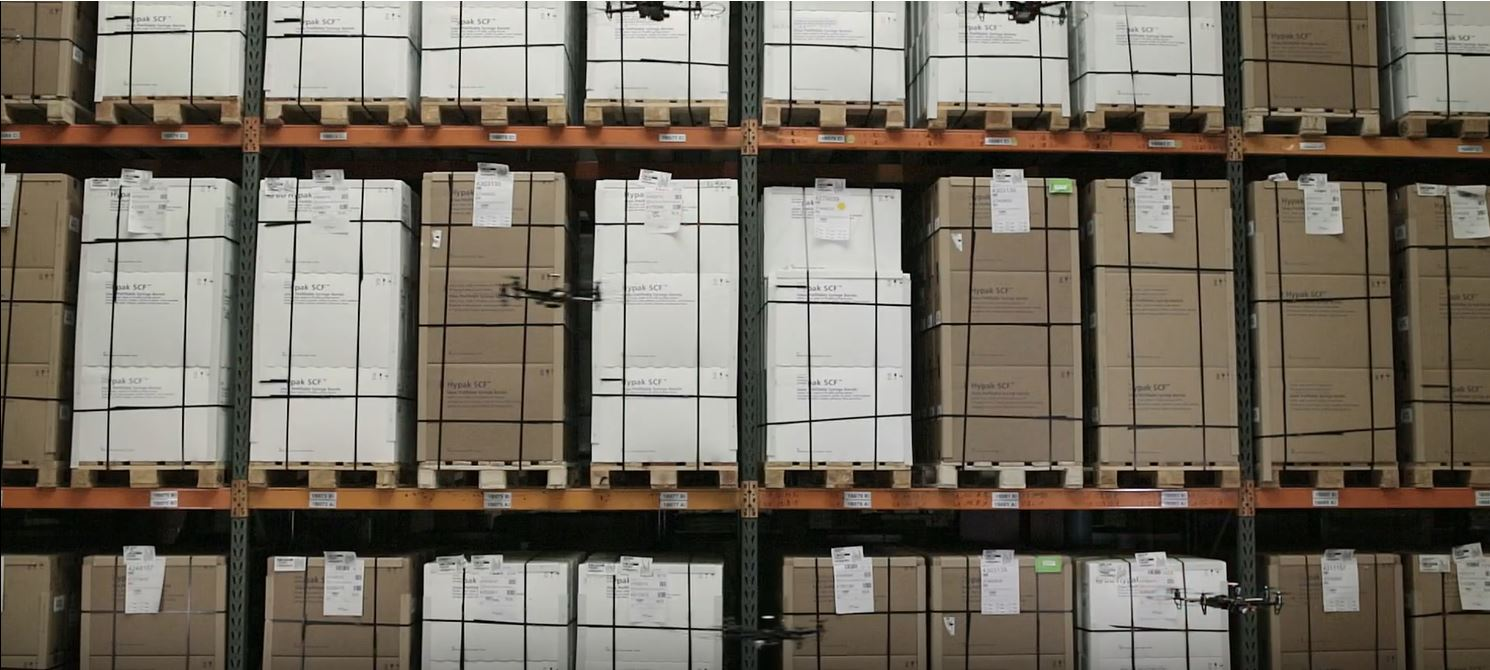drone: (480, 265, 630, 320), (1150, 578, 1301, 630), (698, 609, 835, 660), (957, 1, 1094, 34), (581, 1, 730, 27)
